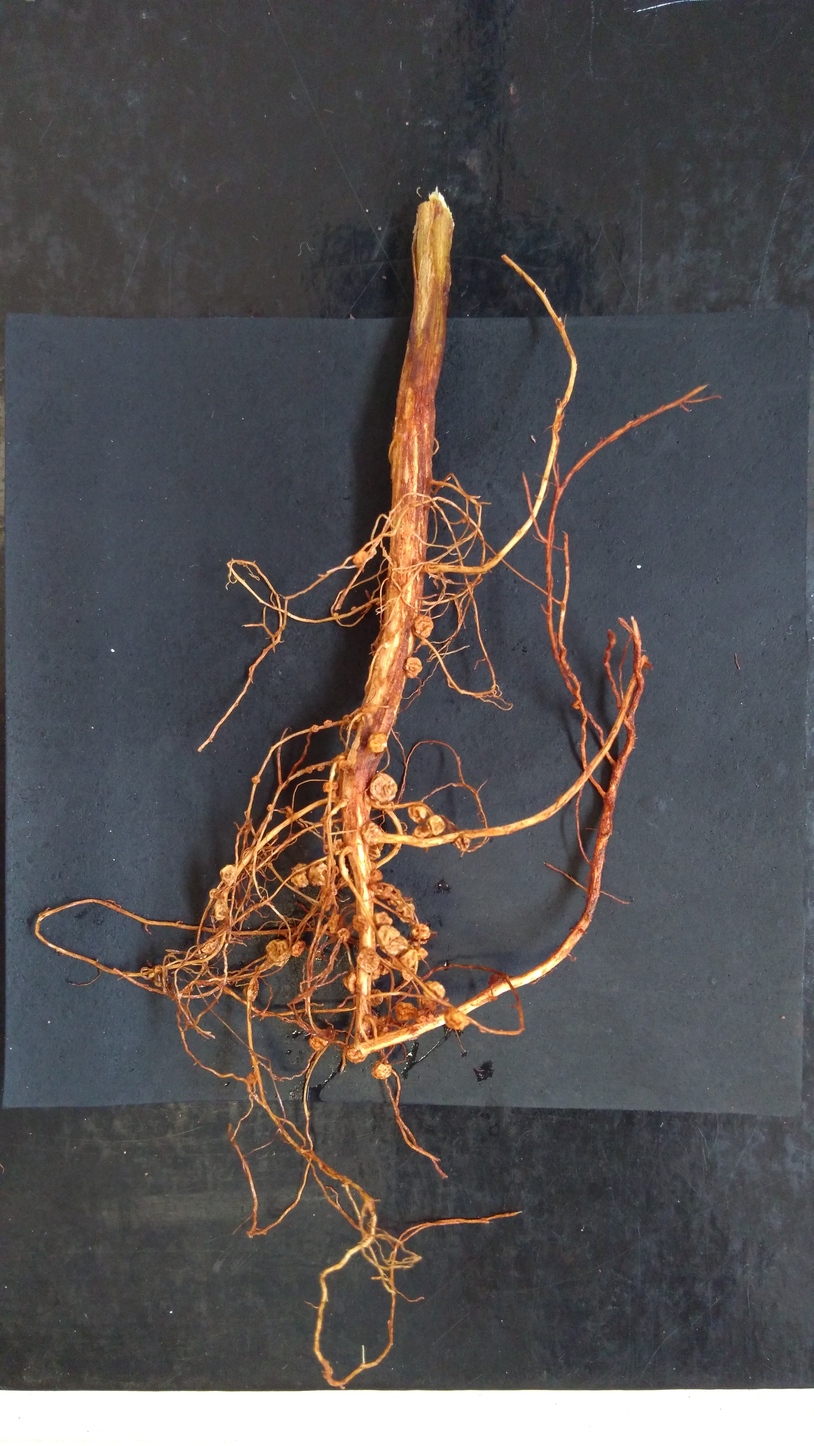nodule: (375, 923, 409, 957), (368, 771, 399, 805), (262, 937, 292, 968), (442, 1005, 470, 1034), (359, 819, 385, 847), (355, 946, 381, 974), (419, 978, 447, 1003), (306, 861, 329, 889), (364, 731, 390, 755), (290, 861, 311, 890), (413, 612, 435, 639), (393, 1001, 420, 1023), (403, 655, 424, 682), (425, 813, 448, 837), (394, 901, 417, 924), (379, 883, 402, 906), (405, 802, 428, 824), (367, 867, 385, 894), (397, 948, 420, 969), (370, 1059, 393, 1080), (218, 863, 237, 888), (351, 913, 371, 936), (372, 910, 395, 930), (409, 922, 433, 941), (212, 898, 231, 922), (342, 1047, 367, 1065), (306, 1034, 330, 1052), (243, 977, 260, 1002), (327, 913, 346, 935), (342, 970, 358, 996), (351, 549, 369, 569), (329, 837, 345, 858), (399, 965, 418, 982), (453, 835, 472, 852), (291, 939, 307, 959), (369, 987, 384, 1008), (201, 937, 219, 954), (366, 843, 382, 862), (412, 823, 429, 840), (381, 957, 395, 976), (336, 926, 351, 942), (415, 945, 429, 962), (322, 780, 341, 792), (337, 759, 353, 771), (370, 967, 381, 982), (207, 888, 219, 899), (247, 1071, 257, 1084), (322, 718, 334, 727), (309, 724, 319, 734), (250, 775, 261, 784), (317, 765, 327, 773), (305, 765, 313, 774), (266, 803, 273, 811), (331, 612, 341, 617), (350, 605, 357, 612), (381, 594, 388, 601), (375, 601, 381, 607)
